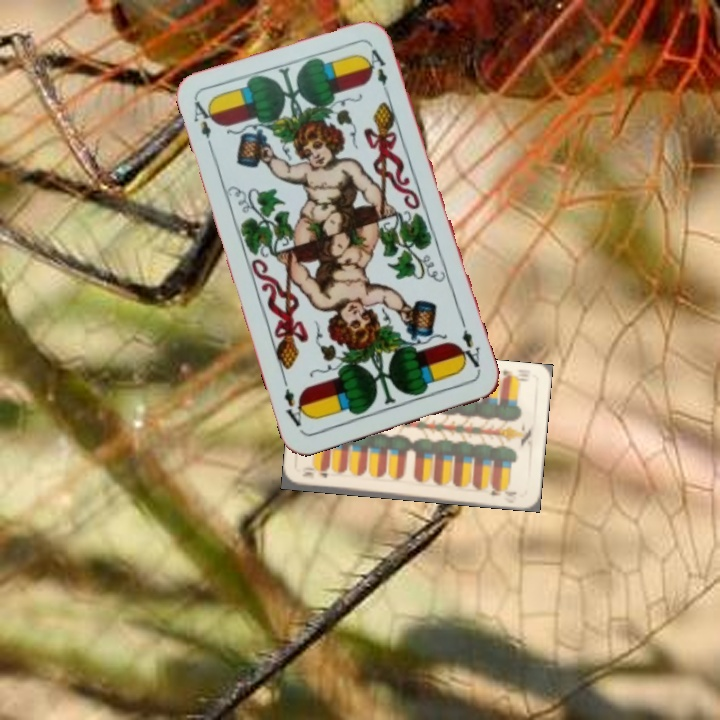E10: (498, 366, 530, 384), (298, 467, 330, 482)
EA: (189, 96, 219, 154), (454, 325, 484, 375)
